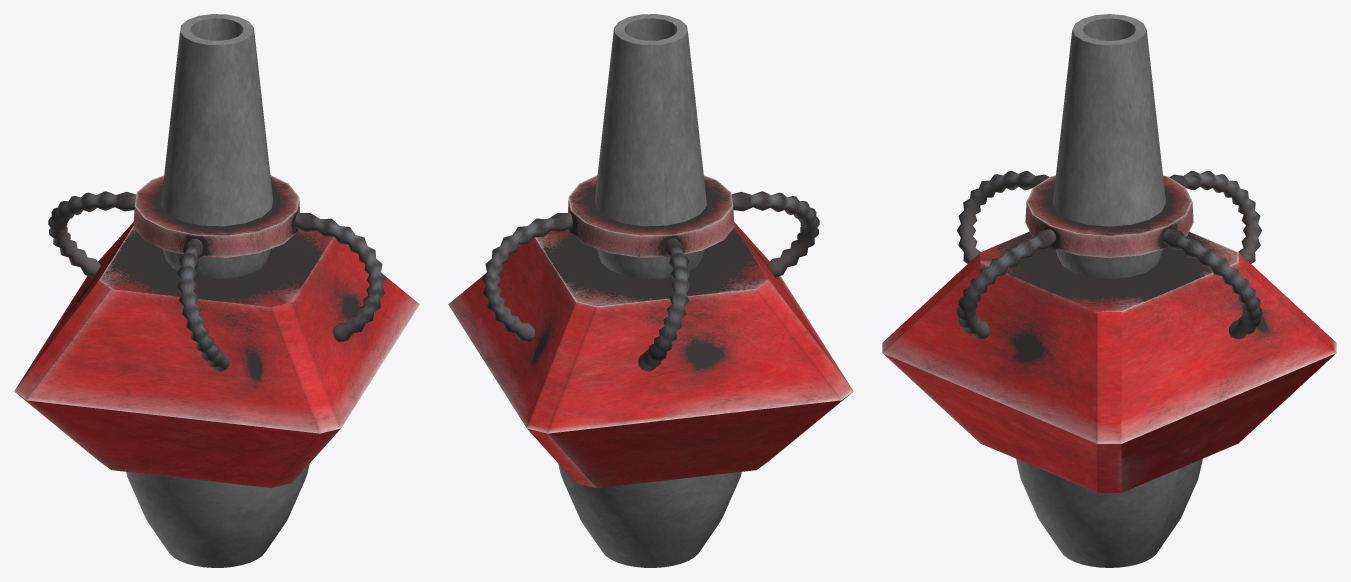
File: Gun10.fbx
3 views of the same model, side by side, from view 1: azimuth 30°, elevation 25°; view 2: azimuth 150°, elevation 25°; view 3: azimuth 270°, elevation 25° (orthographic).
Parts seen in each view (by area): view 1: Cube.002, Cylinder.024, Cylinder.025, BezierCurve; view 2: Cube.002, Cylinder.024, Cylinder.025, BezierCurve; view 3: Cube.002, Cylinder.024, Cylinder.025, BezierCurve.
Boxes of the visible parts, x1,y1,x2,y2 form: Cube.002: (14,222,419,488); Cylinder.024: (133,14,299,278); Cylinder.025: (126,464,309,567); BezierCurve: (48,191,385,371); Cube.002: (448,222,853,488); Cylinder.024: (568,14,734,278); Cylinder.025: (558,464,741,567); BezierCurve: (482,191,819,371); Cube.002: (882,231,1336,492); Cylinder.024: (1025,14,1193,278); Cylinder.025: (1016,458,1202,567); BezierCurve: (956,171,1262,339).
Size of the model in its own units: 455 by 571 by 455.
1 material, 1 textured.
